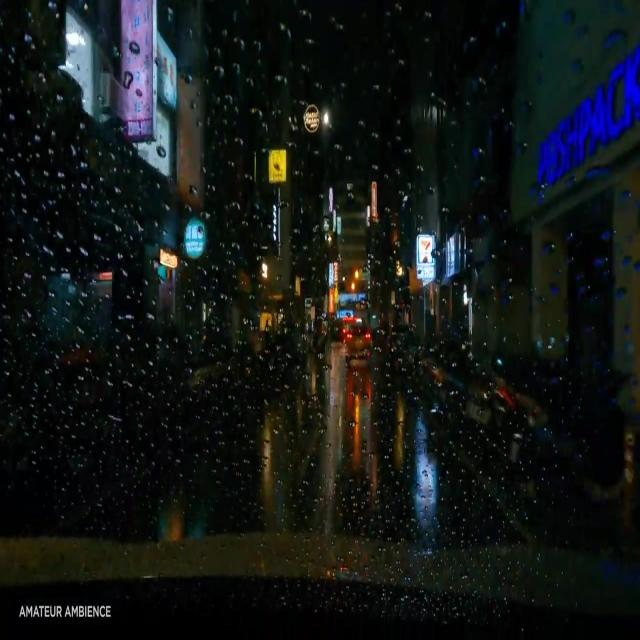Car: (343, 316, 372, 364)
